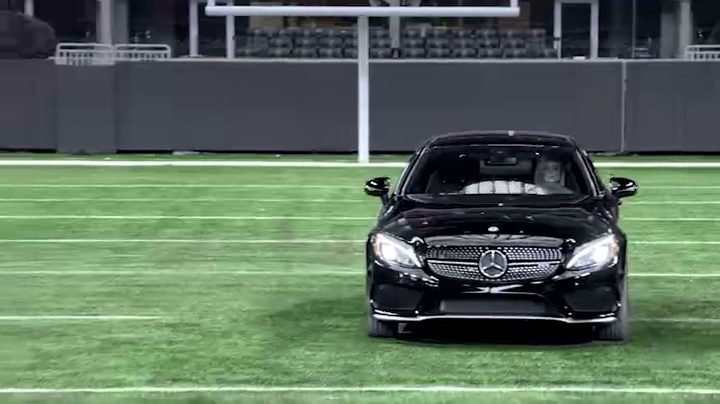amg: (359, 125, 641, 348)
